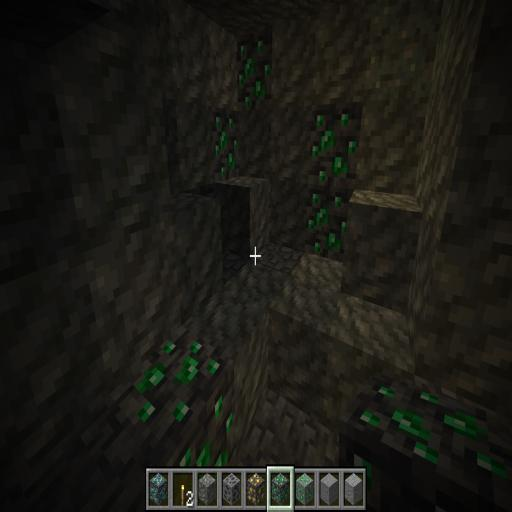emerald ore: (128, 308, 237, 483), (307, 101, 352, 260), (234, 31, 279, 112), (206, 108, 243, 186)
